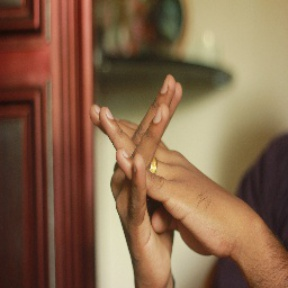W: (94, 71, 208, 246)
